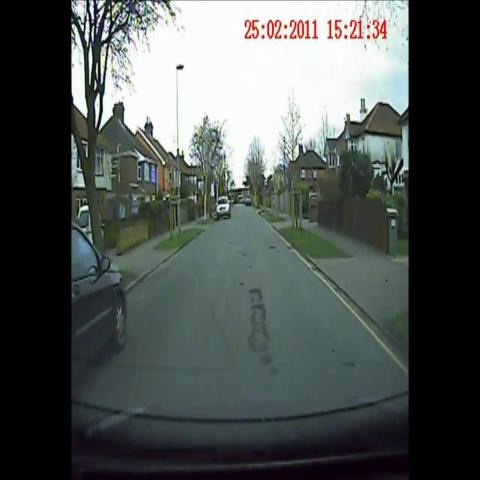pothole: (236, 269, 280, 388), (332, 342, 360, 382), (265, 239, 283, 260)
